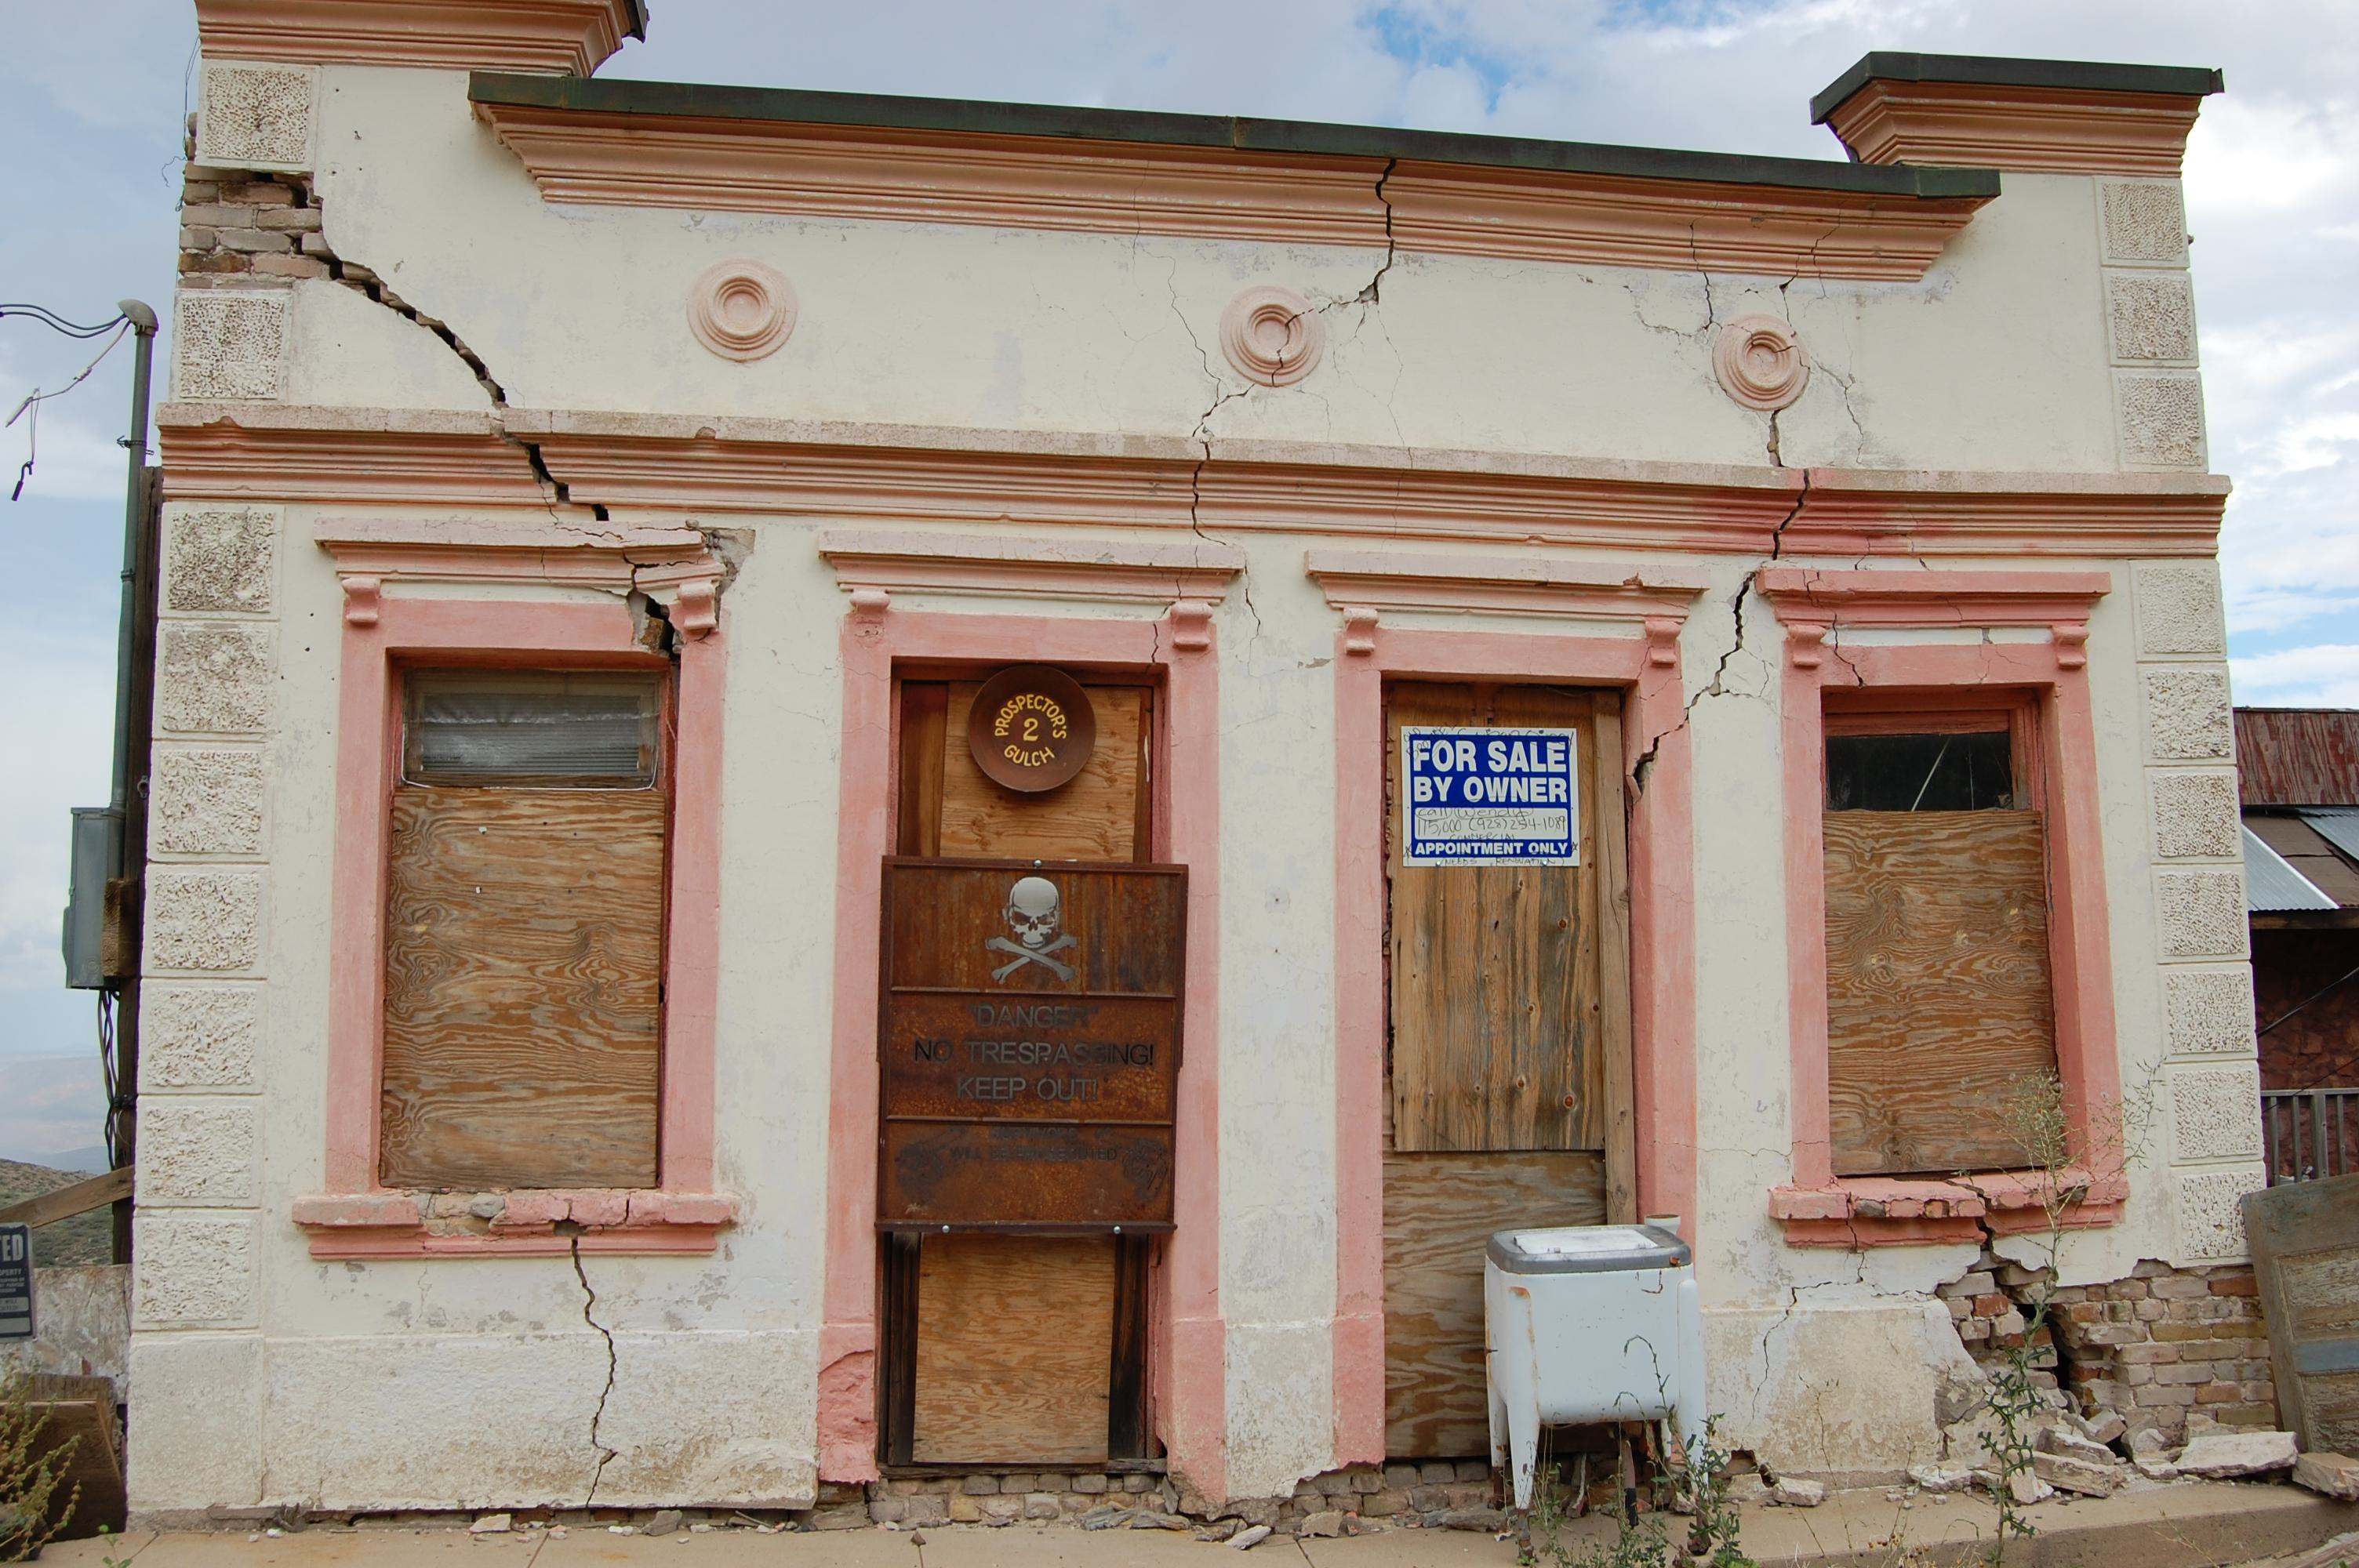crack: (315, 240, 493, 394), (1347, 156, 1430, 292), (1684, 593, 1746, 746), (1762, 431, 1820, 581), (1169, 425, 1242, 543)
